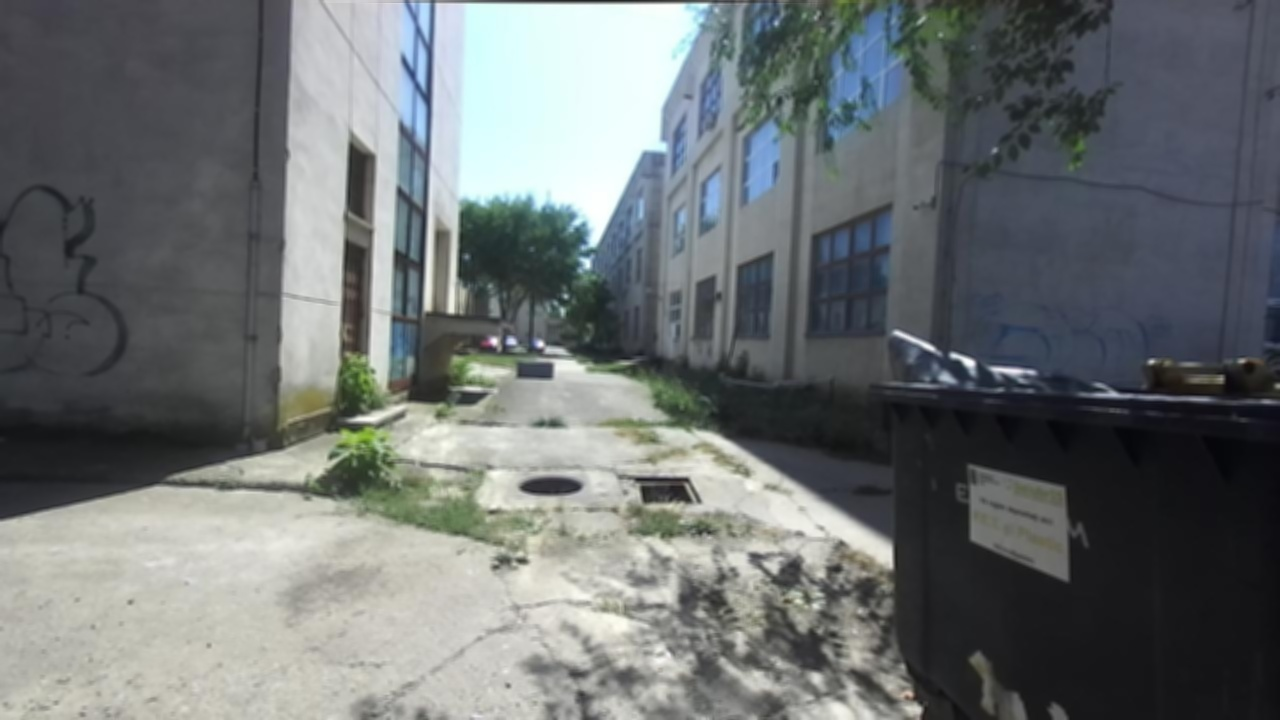drain: (632, 471, 704, 504), (513, 472, 584, 496)
